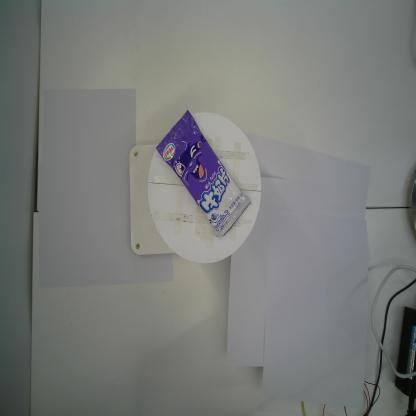Candy: (155, 109, 252, 238)
